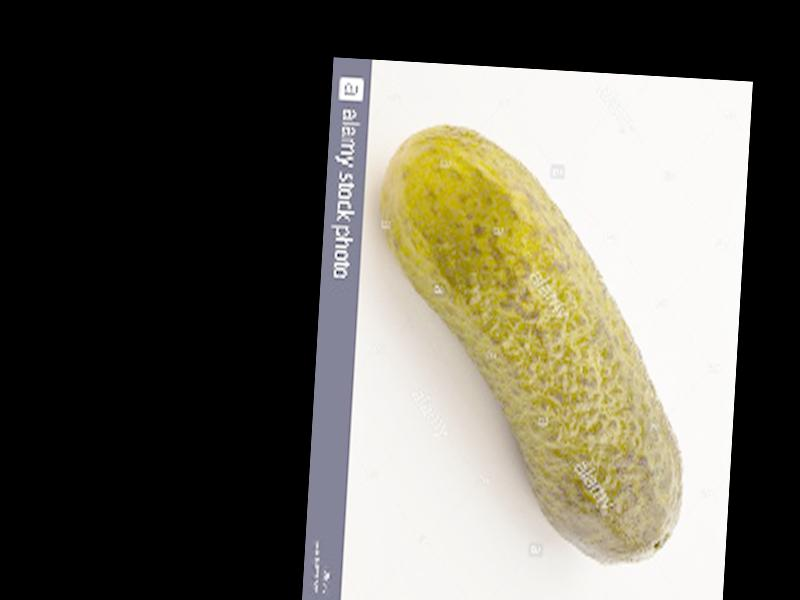Cucumber: (362, 120, 701, 566)
